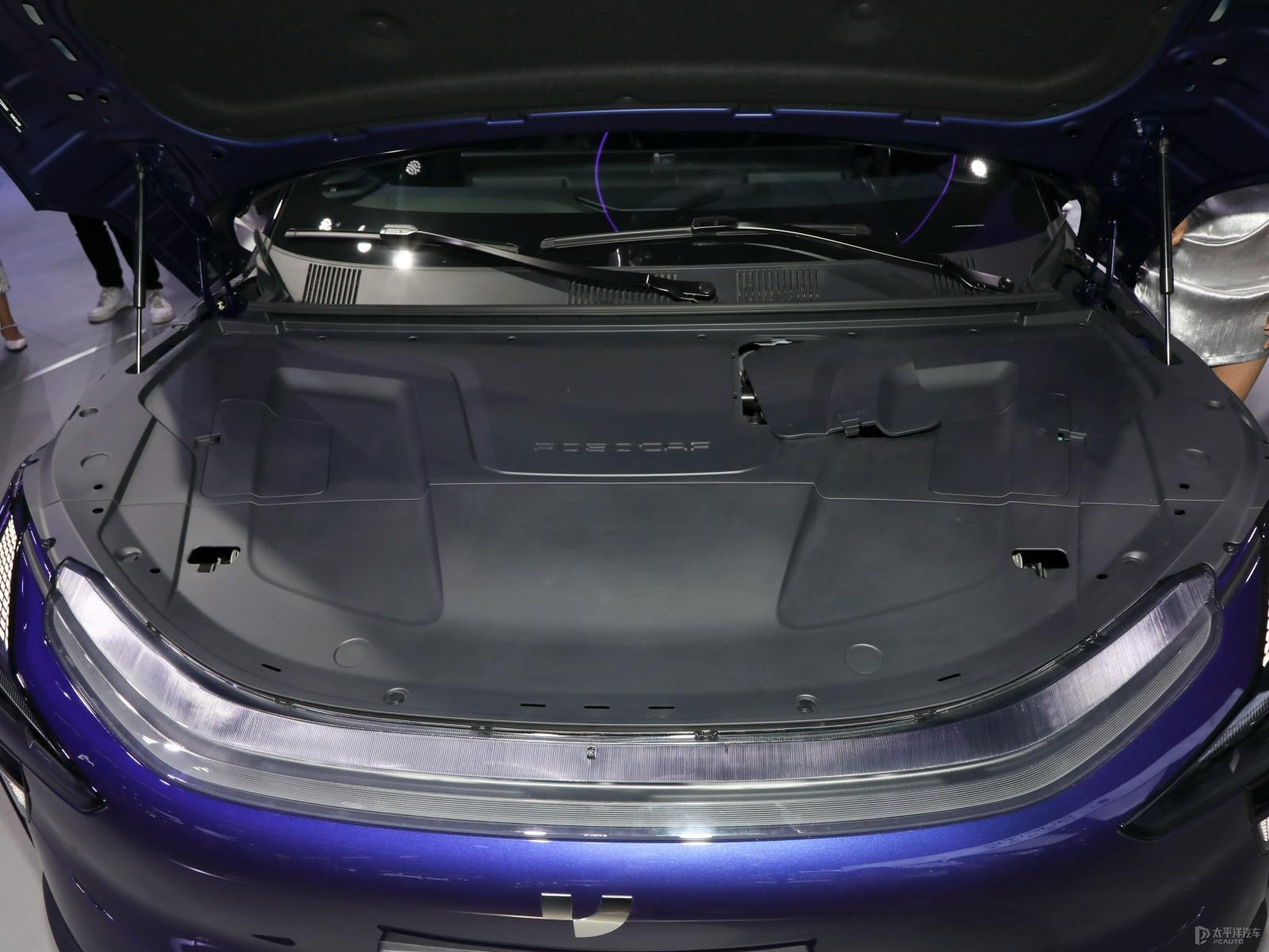JIYUE: (540, 891, 634, 939)
